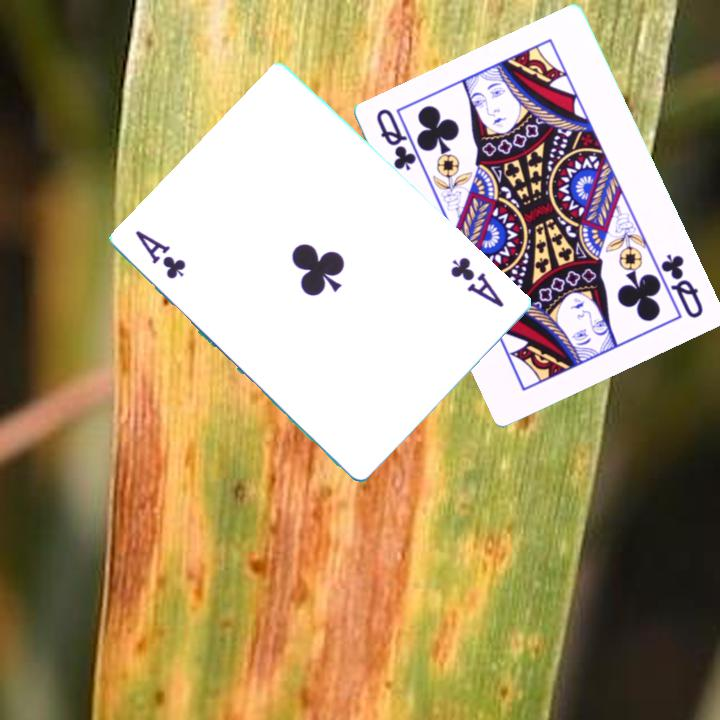Ac: (447, 253, 508, 311), (132, 226, 190, 282)
Qc: (651, 250, 707, 322), (373, 105, 420, 174)
